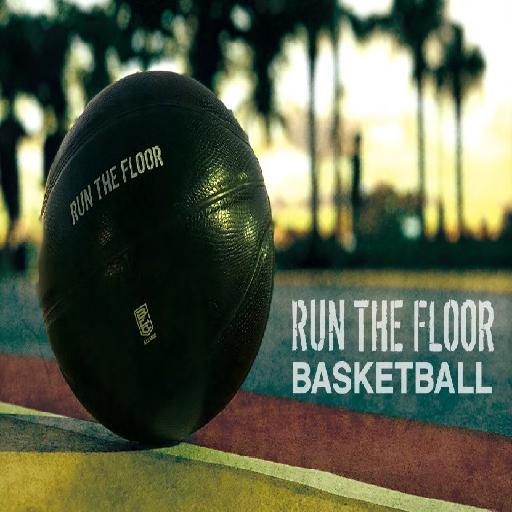ball: (40, 72, 273, 445)
